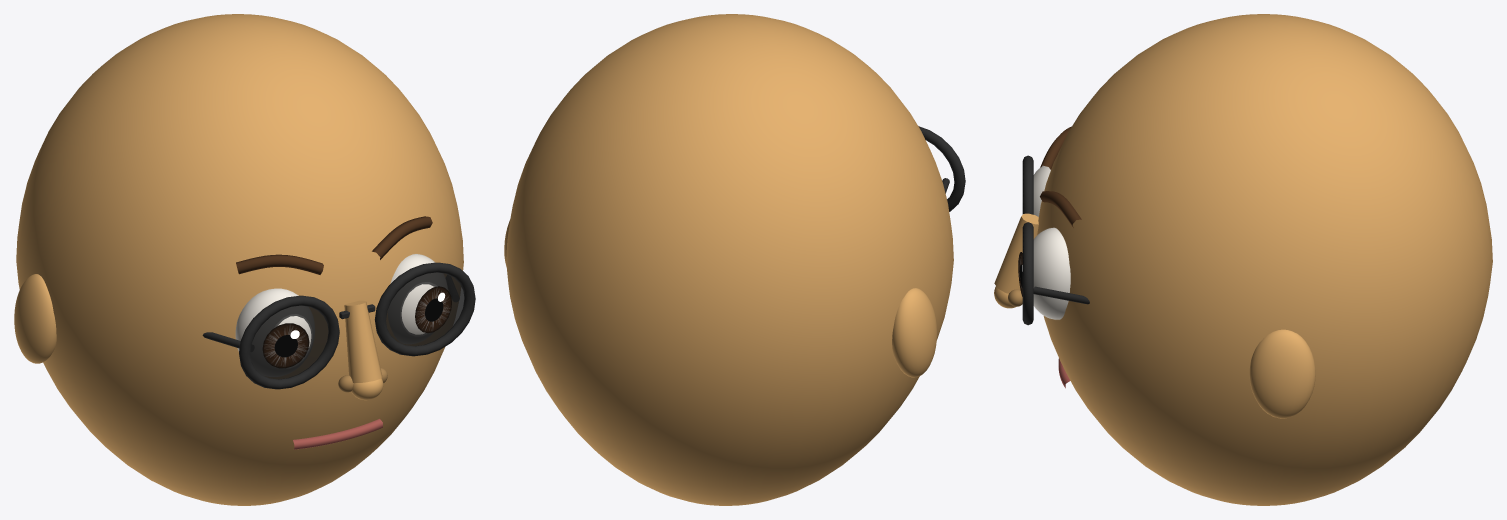
File: 03-aviateur.glb
The picture shows the model from 3 angles, left to right: view 1: azimuth 30°, elevation 25°; view 2: azimuth 150°, elevation 25°; view 3: azimuth 270°, elevation 25°; orthographic projection.
Bounding box in the file's own units: 0.3087 × 0.321 × 0.3166.
11 materials, 1 textured.
